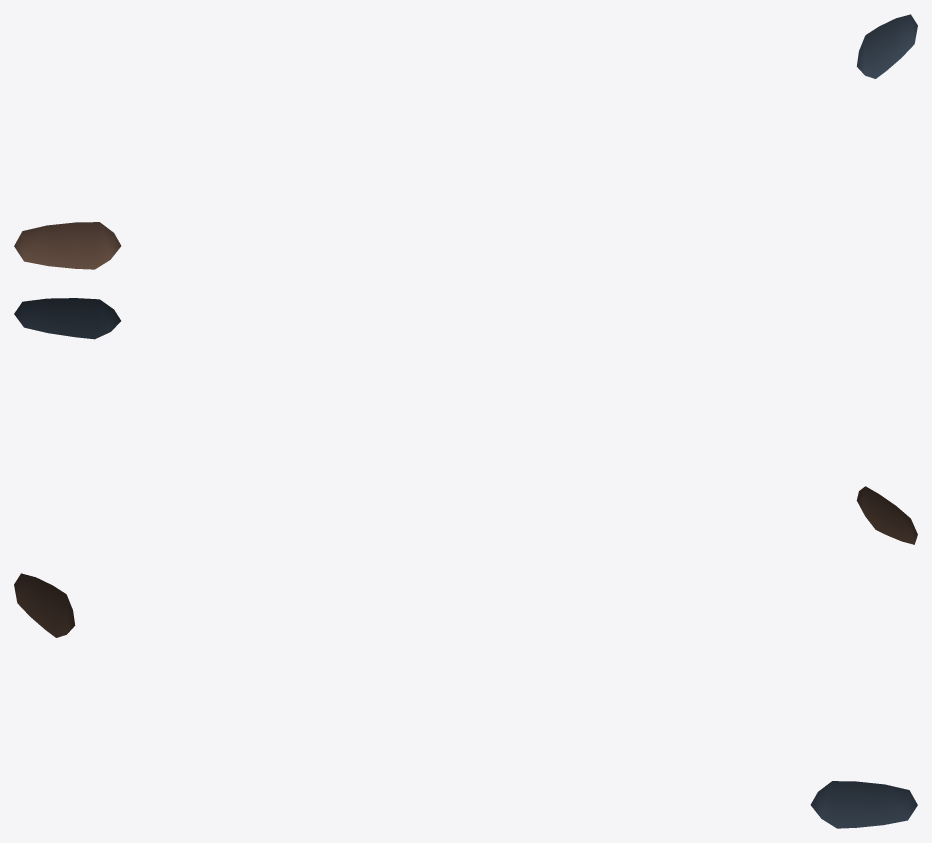
The model's file is Aventador_Chassis_Mirror.fbx.
3 views of the same model, one above another, from view 1: azimuth 30°, elevation 25°; view 2: azimuth 150°, elevation 25°; view 3: azimuth 330°, elevation 25° (orthographic).
Visible parts, largest first — view 1: Aventador_Chassis_Mirror; view 2: Aventador_Chassis_Mirror; view 3: Aventador_Chassis_Mirror.
Boxes of the visible parts, x1,y1,x2,y2 form: Aventador_Chassis_Mirror: [14, 14, 917, 269]; Aventador_Chassis_Mirror: [14, 298, 917, 544]; Aventador_Chassis_Mirror: [14, 573, 917, 828].
Size of the model in its own units: 224 by 10.5 by 9.95.
